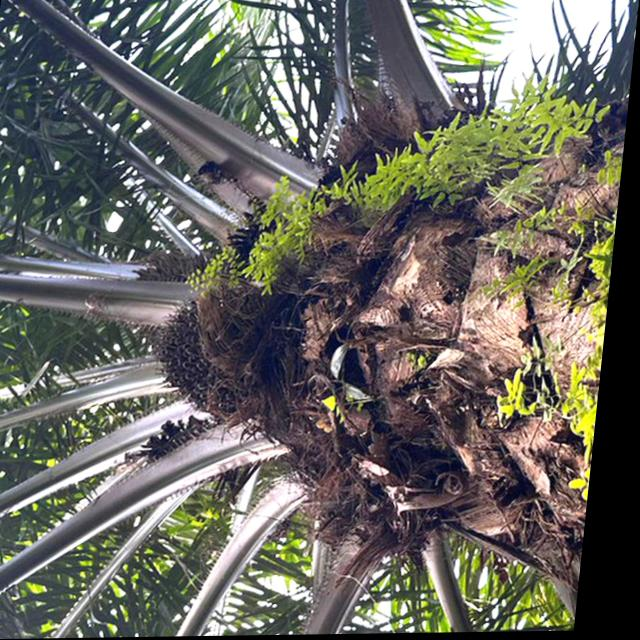almost: (145, 279, 287, 427)
